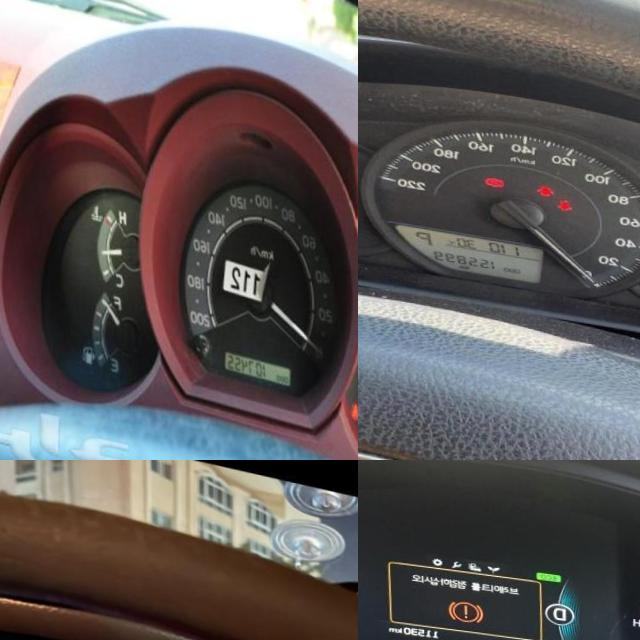Seat Belt: (555, 190, 569, 203), (346, 393, 355, 410)
